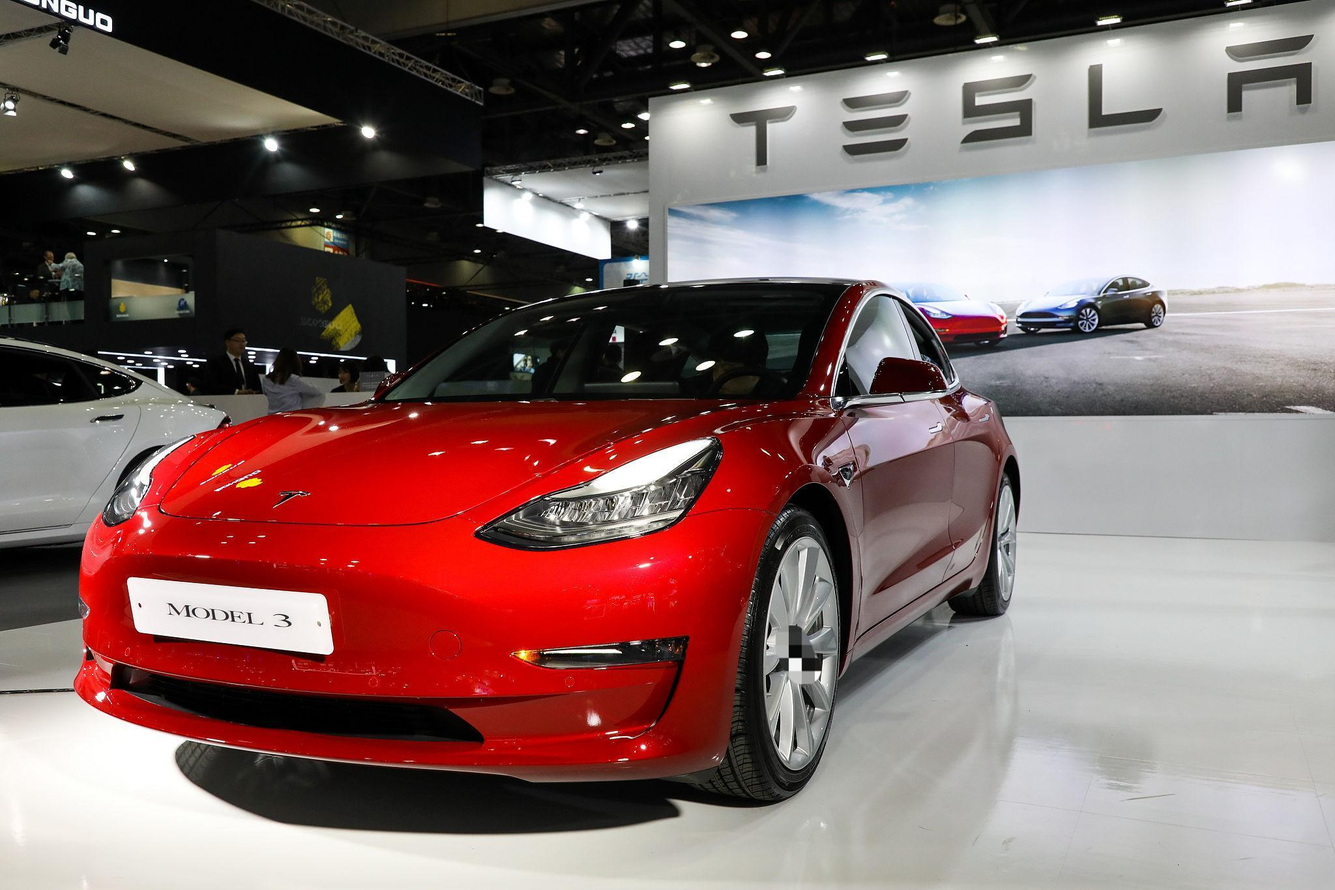Tesla: (273, 491, 311, 508)
